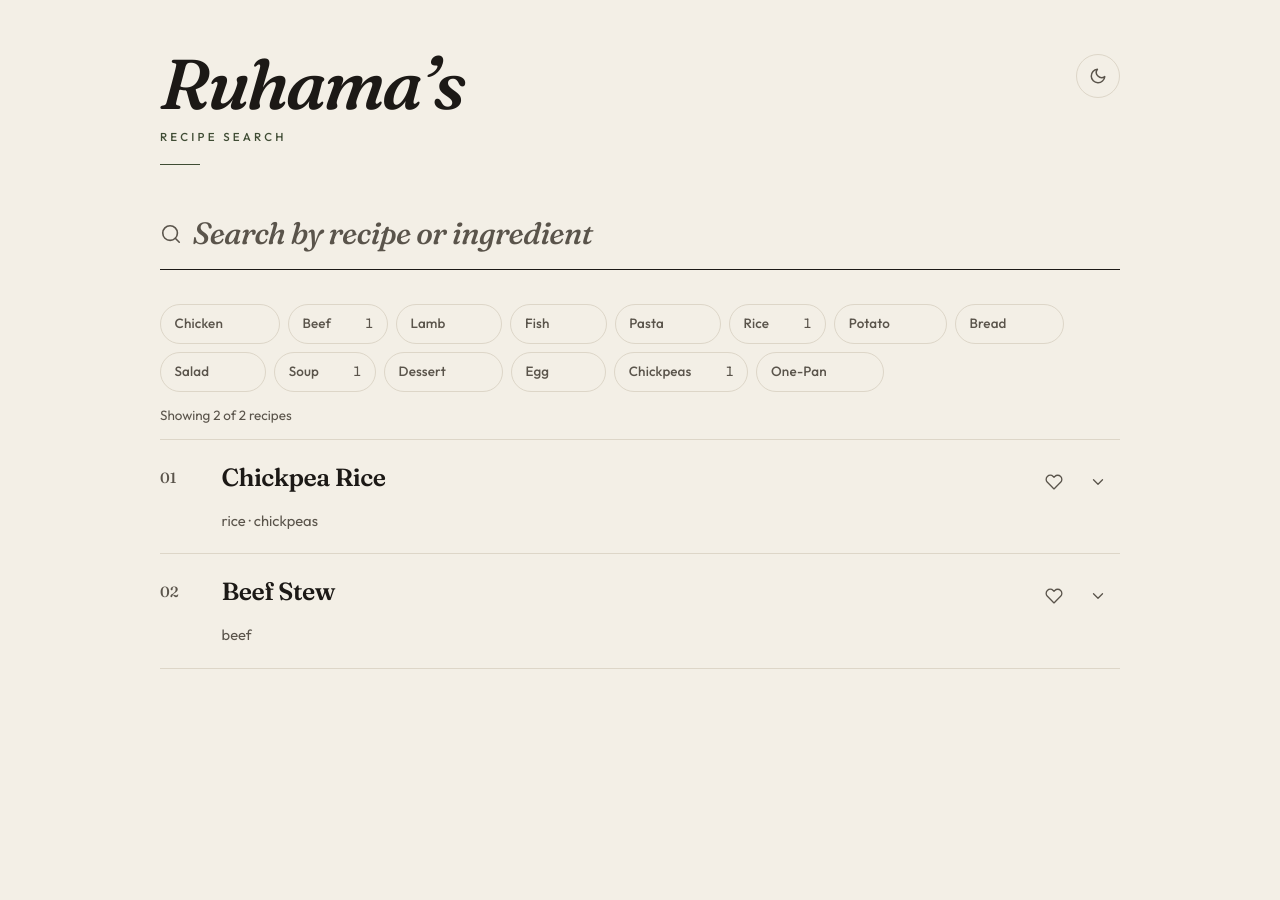
Test: App › shows details when a recipe is expanded
The width and height of the screenshot is (1280, 900).
Expected: the text "Cook rice" is not shown
Click the text "Chickpea Rice" at coordinates (304, 476), box [222,462,385,492]
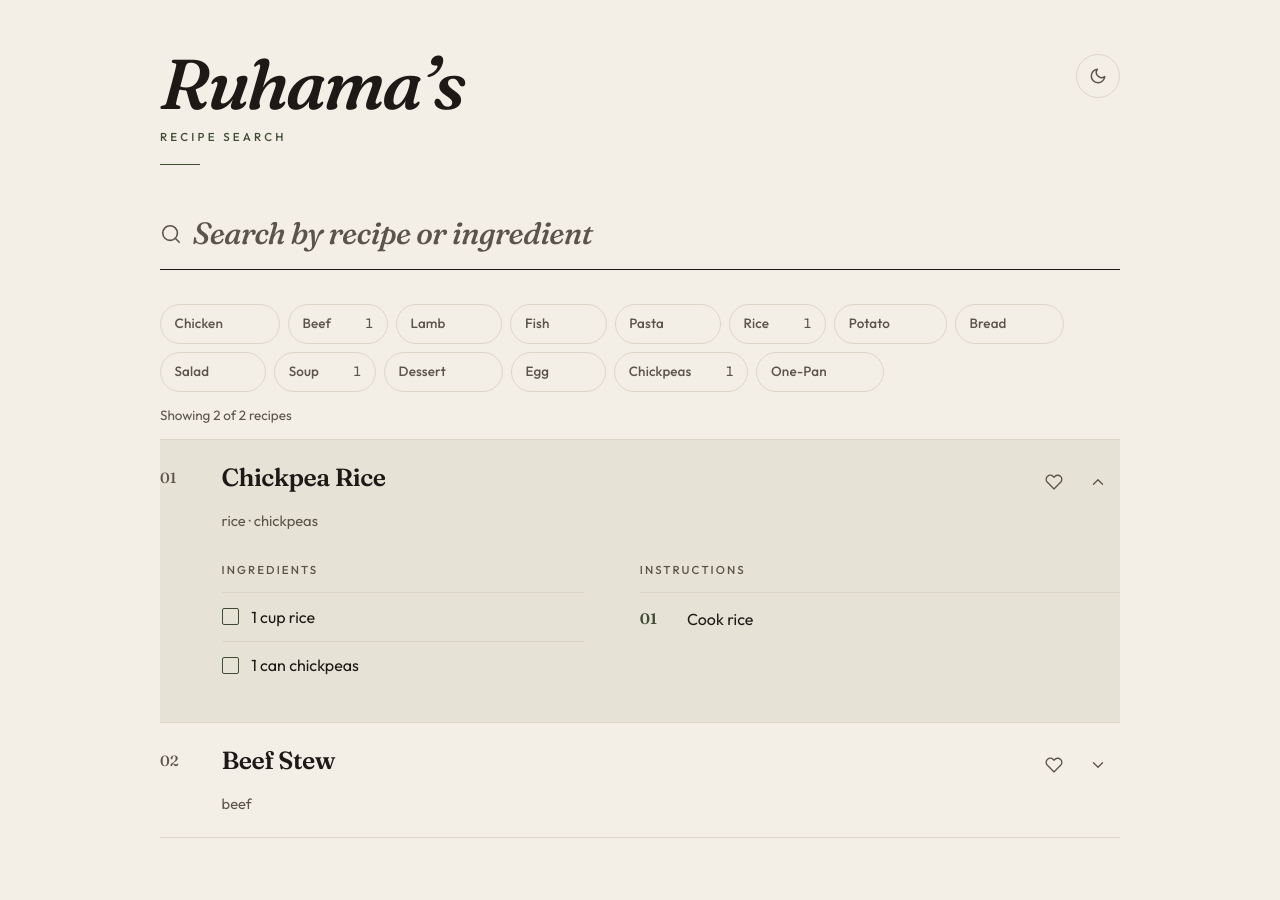
Expected: the list item "Cook rice" is shown, [640,592,1120,646]
